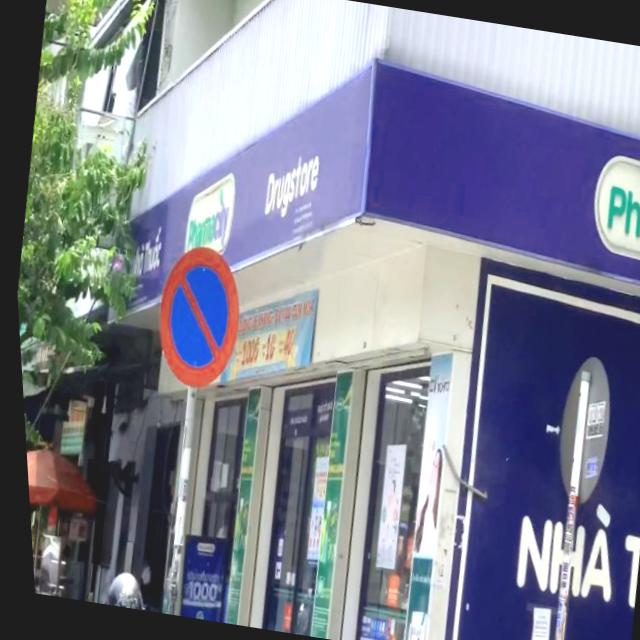Cam do xe: (141, 240, 250, 394)
